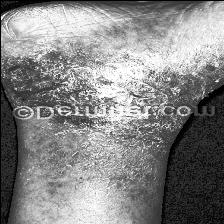Non-Cancerous Skin Condition: (80, 55, 150, 96), (2, 57, 72, 90), (134, 118, 170, 148)
